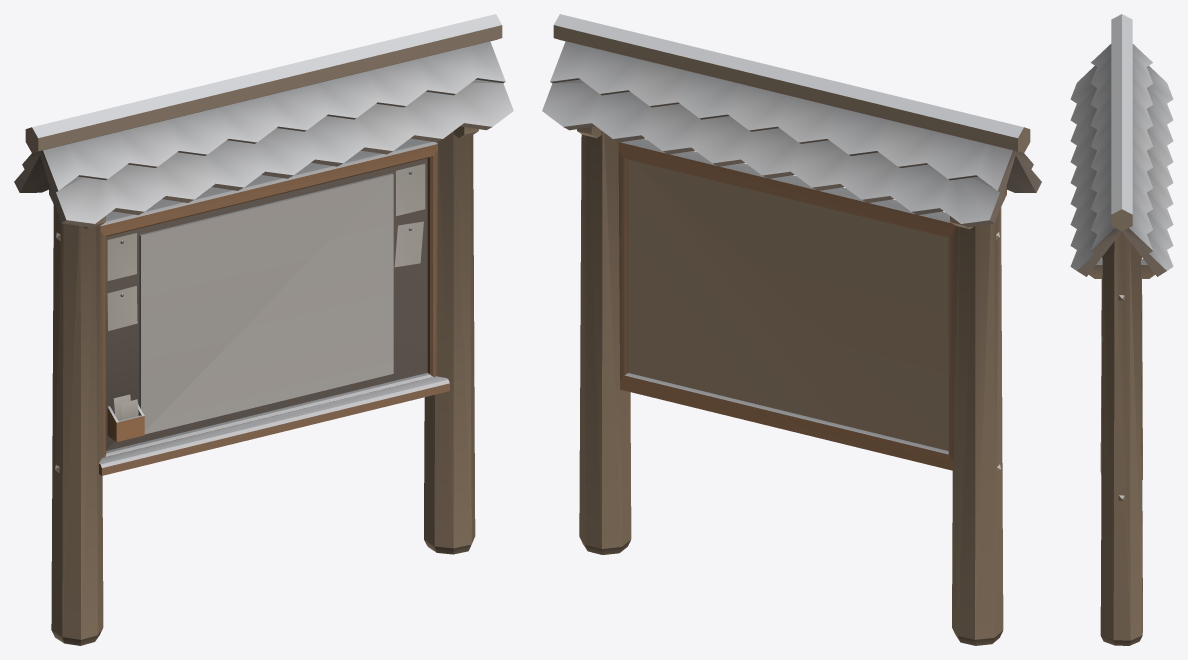
The model's file is board.glb.
3 views of the same model, side by side, from view 1: azimuth 30°, elevation 25°; view 2: azimuth 150°, elevation 25°; view 3: azimuth 270°, elevation 25° (orthographic). The views are drawn at different scales.
Visible parts, largest first — view 1: board.001; view 2: board.001; view 3: board.001.
Boxes of the visible parts, x1,y1,x2,y2 form: board.001: [14, 14, 513, 645]; board.001: [542, 14, 1041, 645]; board.001: [1070, 14, 1173, 645].
Bounding box in the file's own units: 2.91 × 3.12 × 0.65.
